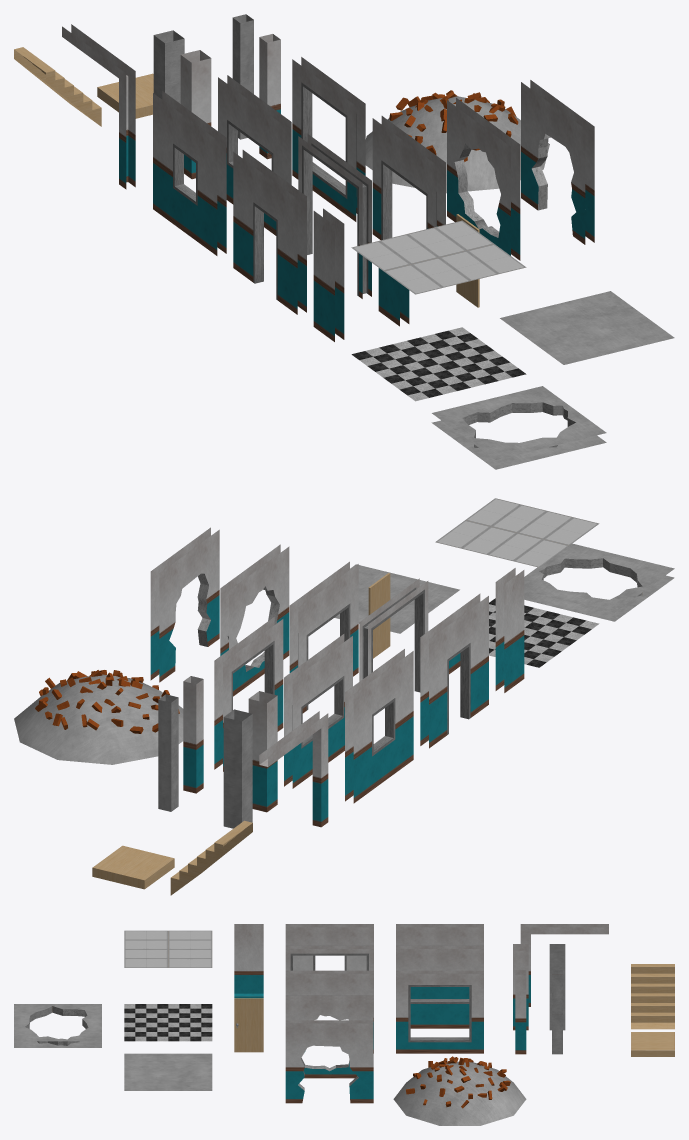
The model's file is NewModules.fbx.
The picture shows the model from 3 angles, top to bottom: view 1: azimuth 30°, elevation 25°; view 2: azimuth 150°, elevation 25°; view 3: azimuth 270°, elevation 25°; orthographic projection. The views are drawn at different scales.
Parts seen in each view (by area): view 1: VentanaChica, ParedPuerta, Piso, Techo, Techo1, ParedRota1, ParedRota, PisoRoto, VentanaGrande, Escombros, ParedPuertaDoble, VentanaMediana (+10 smaller); view 2: Escombros, VentanaChica, ParedPuerta, ParedRota1, Techo, VentanaMediana, PisoRoto, ParedRota, ParedPuertaDoble, VentanaGrande, Pared1, Viga (+10 smaller); view 3: Escombros, ParedRota1, VentanaGrande, VentanaMediana, Piso, Techo, Techo1, Escalera, ParedRota, PisoRoto, ParedPuerta, VentanaChica (+10 smaller).
Part boxes in pixels (box(x1,y1,x2,y2)): VentanaChica: box(153, 91, 226, 255); ParedPuerta: box(233, 150, 306, 314); Piso: box(351, 327, 526, 401); Techo: box(351, 220, 526, 294); Techo1: box(500, 291, 674, 364); ParedRota1: box(521, 80, 594, 244); ParedRota: box(447, 98, 520, 260); PisoRoto: box(431, 386, 606, 469); VentanaGrande: box(292, 57, 365, 221); Escombros: box(365, 90, 549, 193); ParedPuertaDoble: box(372, 116, 445, 240); VentanaMediana: box(218, 75, 291, 235); Escombros: box(14, 670, 183, 764); VentanaChica: box(345, 649, 413, 803); ParedPuerta: box(420, 593, 488, 748); ParedRota1: box(150, 527, 219, 682); Techo: box(435, 498, 599, 567); VentanaMediana: box(284, 634, 352, 788); PisoRoto: box(524, 543, 674, 621); ParedRota: box(220, 544, 289, 696); ParedPuertaDoble: box(289, 561, 358, 713); VentanaGrande: box(214, 617, 283, 771); Pared1: box(495, 568, 524, 692); Viga: box(223, 709, 252, 828); Escombros: box(393, 1056, 526, 1125); ParedRota1: box(285, 1020, 373, 1103); VentanaGrande: box(396, 970, 483, 1053); VentanaMediana: box(396, 945, 483, 1028); Piso: box(124, 1004, 212, 1041); Techo: box(124, 930, 212, 967); Techo1: box(124, 1053, 212, 1090); Escalera: box(631, 964, 674, 1029); ParedRota: box(285, 995, 373, 1078); PisoRoto: box(14, 1004, 101, 1047); ParedPuerta: box(285, 924, 373, 970); VentanaChica: box(396, 924, 483, 998).
Size of the model in its own units: 9.83 by 3.25 by 22.5.
